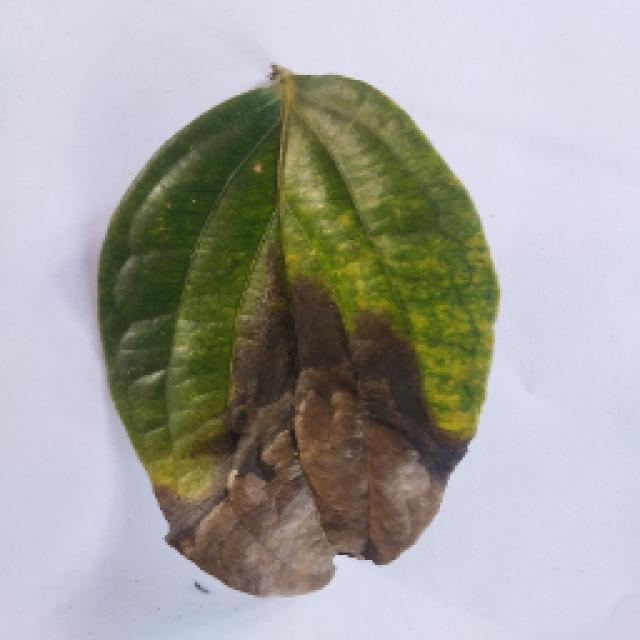footrot: (85, 75, 520, 603)
